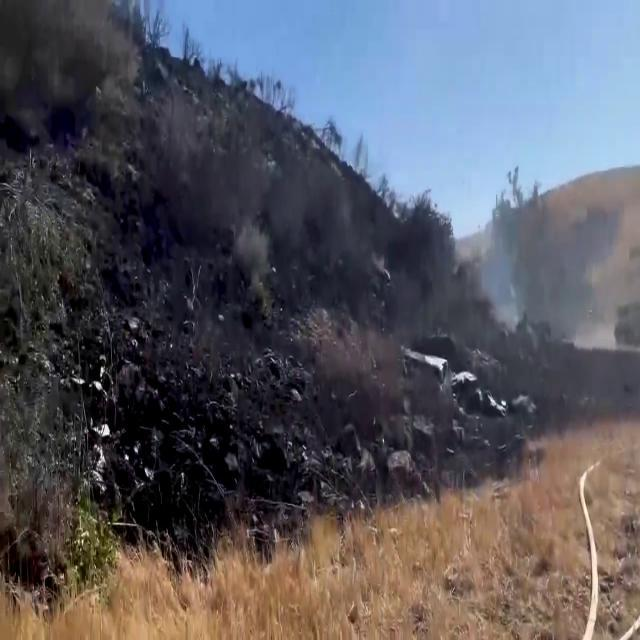Smoke: (471, 192, 530, 338), (228, 201, 280, 295)
